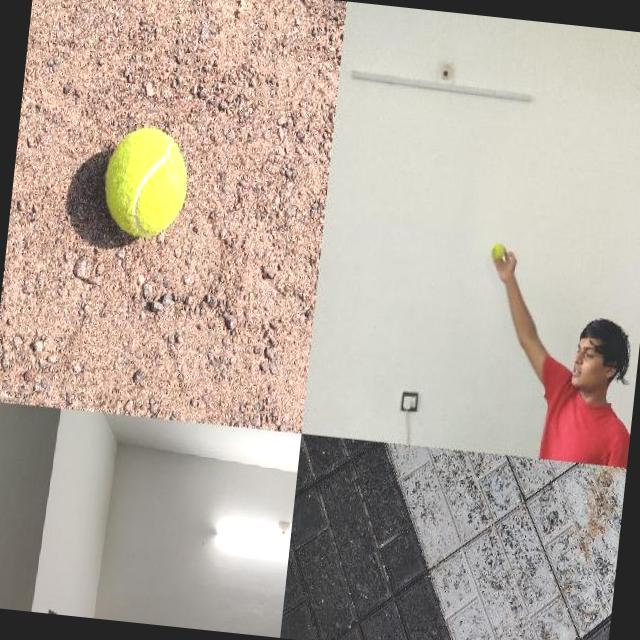Tennis Ball: (100, 124, 191, 238), (490, 242, 506, 258)
